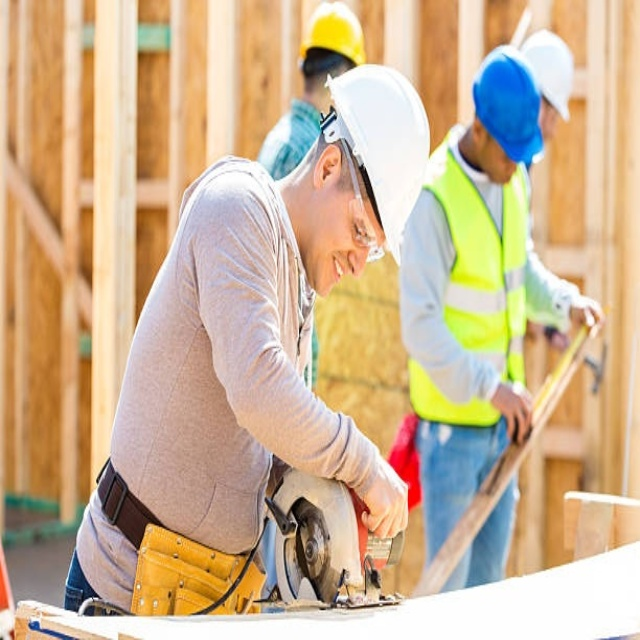Gafas: (335, 132, 386, 265)
Sin_guantes: (359, 466, 411, 543), (492, 381, 535, 446), (571, 294, 605, 332)
Sin_mascara: (315, 245, 353, 296)
